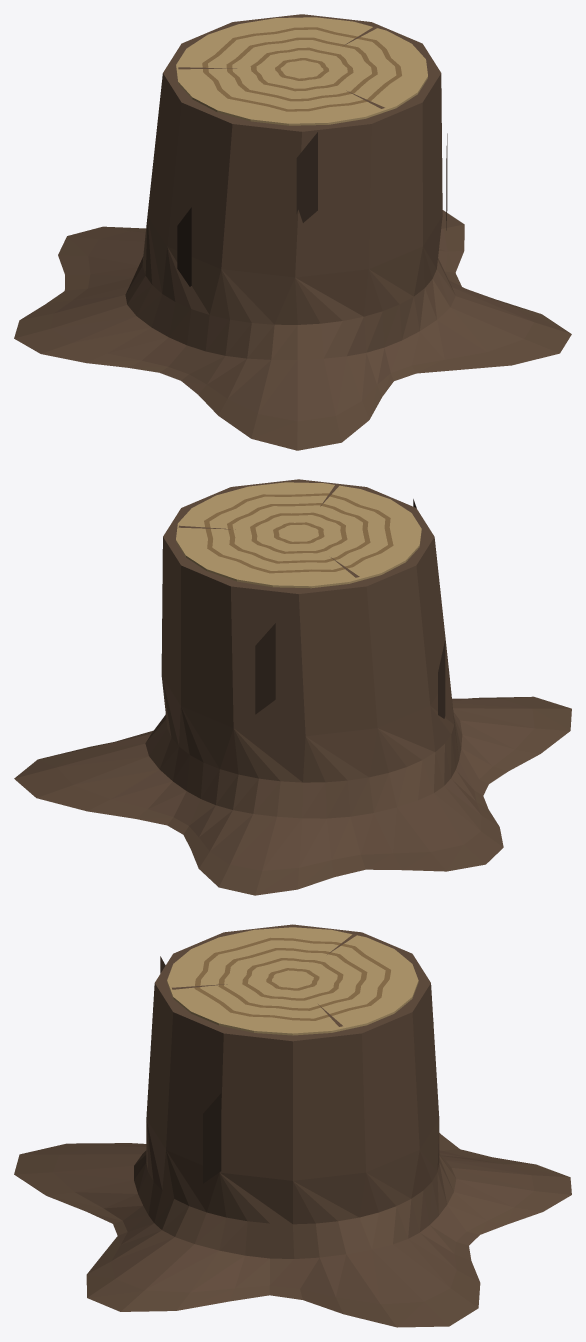
File: spruce_stump.glb
The picture shows the model from 3 angles, top to bottom: view 1: azimuth 30°, elevation 25°; view 2: azimuth 150°, elevation 25°; view 3: azimuth 270°, elevation 25°; orthographic projection. The views are drawn at different scales.
Visible parts, largest first — view 1: stump, growth_rings; view 2: stump, growth_rings; view 3: stump, growth_rings.
Part boxes in pixels (bbox=[...]): stump: bbox=[14, 14, 571, 450]; growth_rings: bbox=[176, 17, 427, 125]; stump: bbox=[14, 479, 571, 895]; growth_rings: bbox=[176, 482, 421, 588]; stump: bbox=[14, 924, 571, 1327]; growth_rings: bbox=[167, 927, 418, 1035].
Size of the model in its own units: 0.9434 by 0.488 by 1.01.
